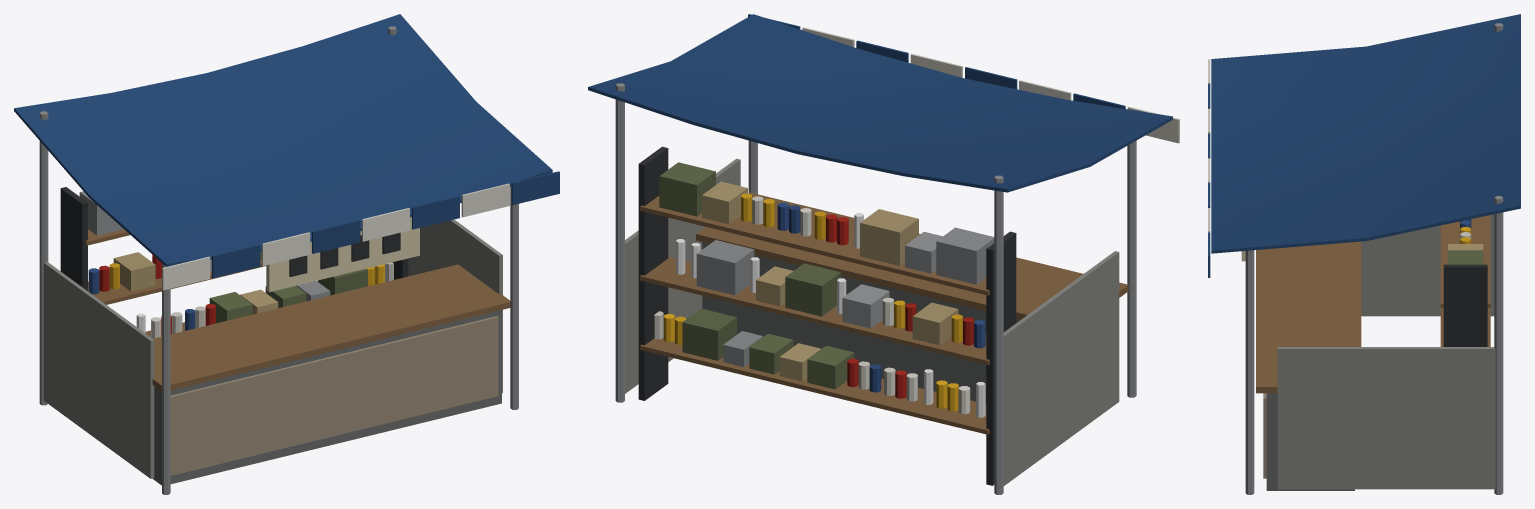
File: vendor-stall-blue.glb
3 renders of one model, left to right at view 1: azimuth 30°, elevation 25°; view 2: azimuth 150°, elevation 25°; view 3: azimuth 270°, elevation 25°, orthographic. The views are drawn at different scales.
Visible parts, largest first — view 1: Piece_lod0; view 2: Piece_lod0; view 3: Piece_lod0.
Boxes of the visible parts, x1,y1,x2,y2 form: Piece_lod0: (14, 14, 559, 494); Piece_lod0: (588, 14, 1179, 494); Piece_lod0: (1208, 14, 1520, 494).
Size of what is drawn, in the model's own units: 4.21 by 2.97 by 2.83.
